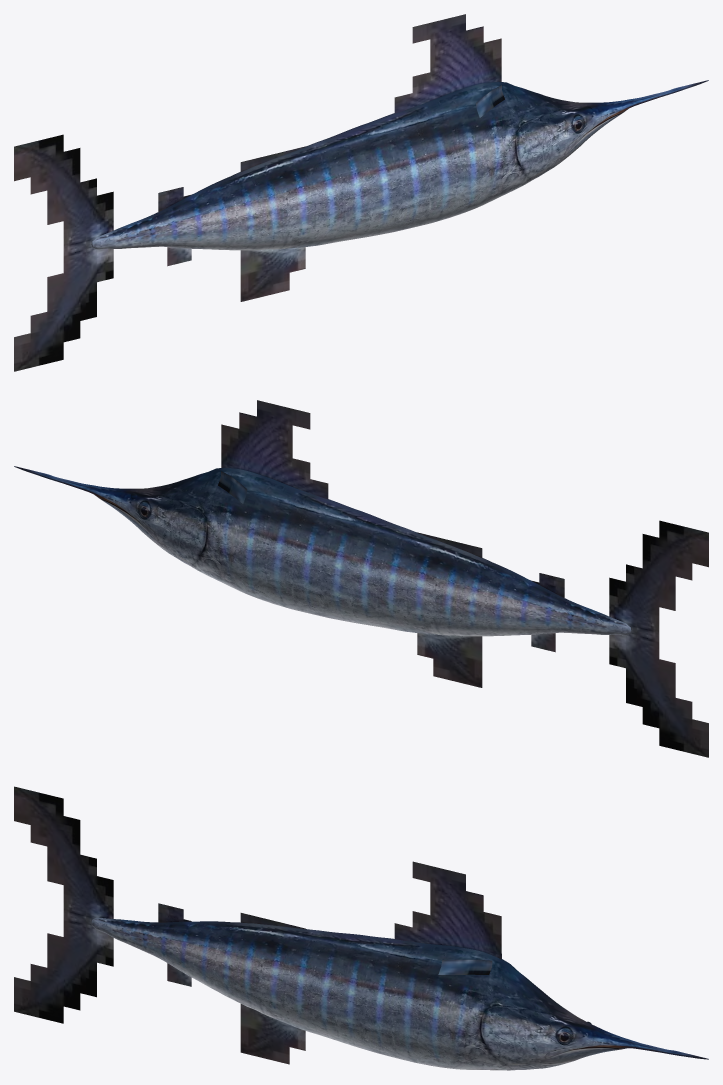
Rendered from real-makaira_nigricans.glb.
The picture shows the model from 3 angles, top to bottom: view 1: azimuth 30°, elevation 25°; view 2: azimuth 150°, elevation 25°; view 3: azimuth 330°, elevation 25°; orthographic projection.
Parts seen in each view (by area): view 1: makaira_nigricans; view 2: makaira_nigricans; view 3: makaira_nigricans.
Part boxes in pixels (left/top/right/bottom): makaira_nigricans: left=14, top=14, right=708, bottom=371; makaira_nigricans: left=14, top=400, right=708, bottom=757; makaira_nigricans: left=14, top=786, right=708, bottom=1070.
Bounding box in the file's own units: 2.9 × 0.9883 × 0.3008.
Materials: 1 (1 with a texture image).
